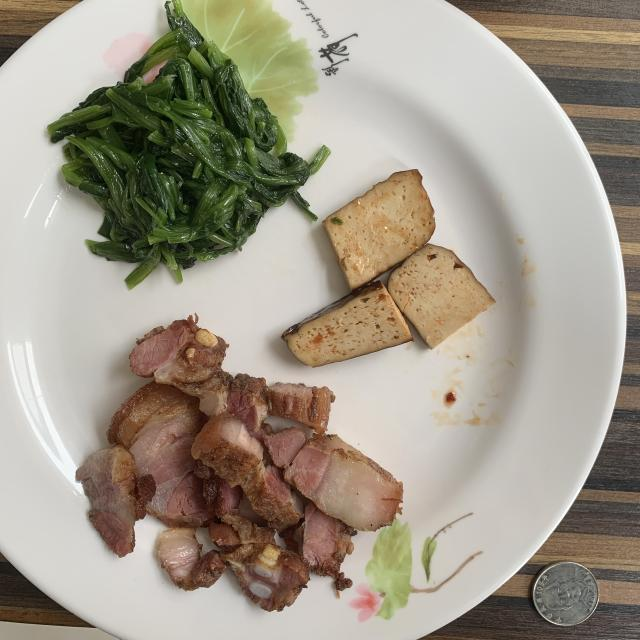coin: (532, 561, 599, 626)
firm tofu: (282, 170, 494, 366)
grilled pork: (76, 318, 402, 611)
mustard greens: (48, 0, 329, 288)
